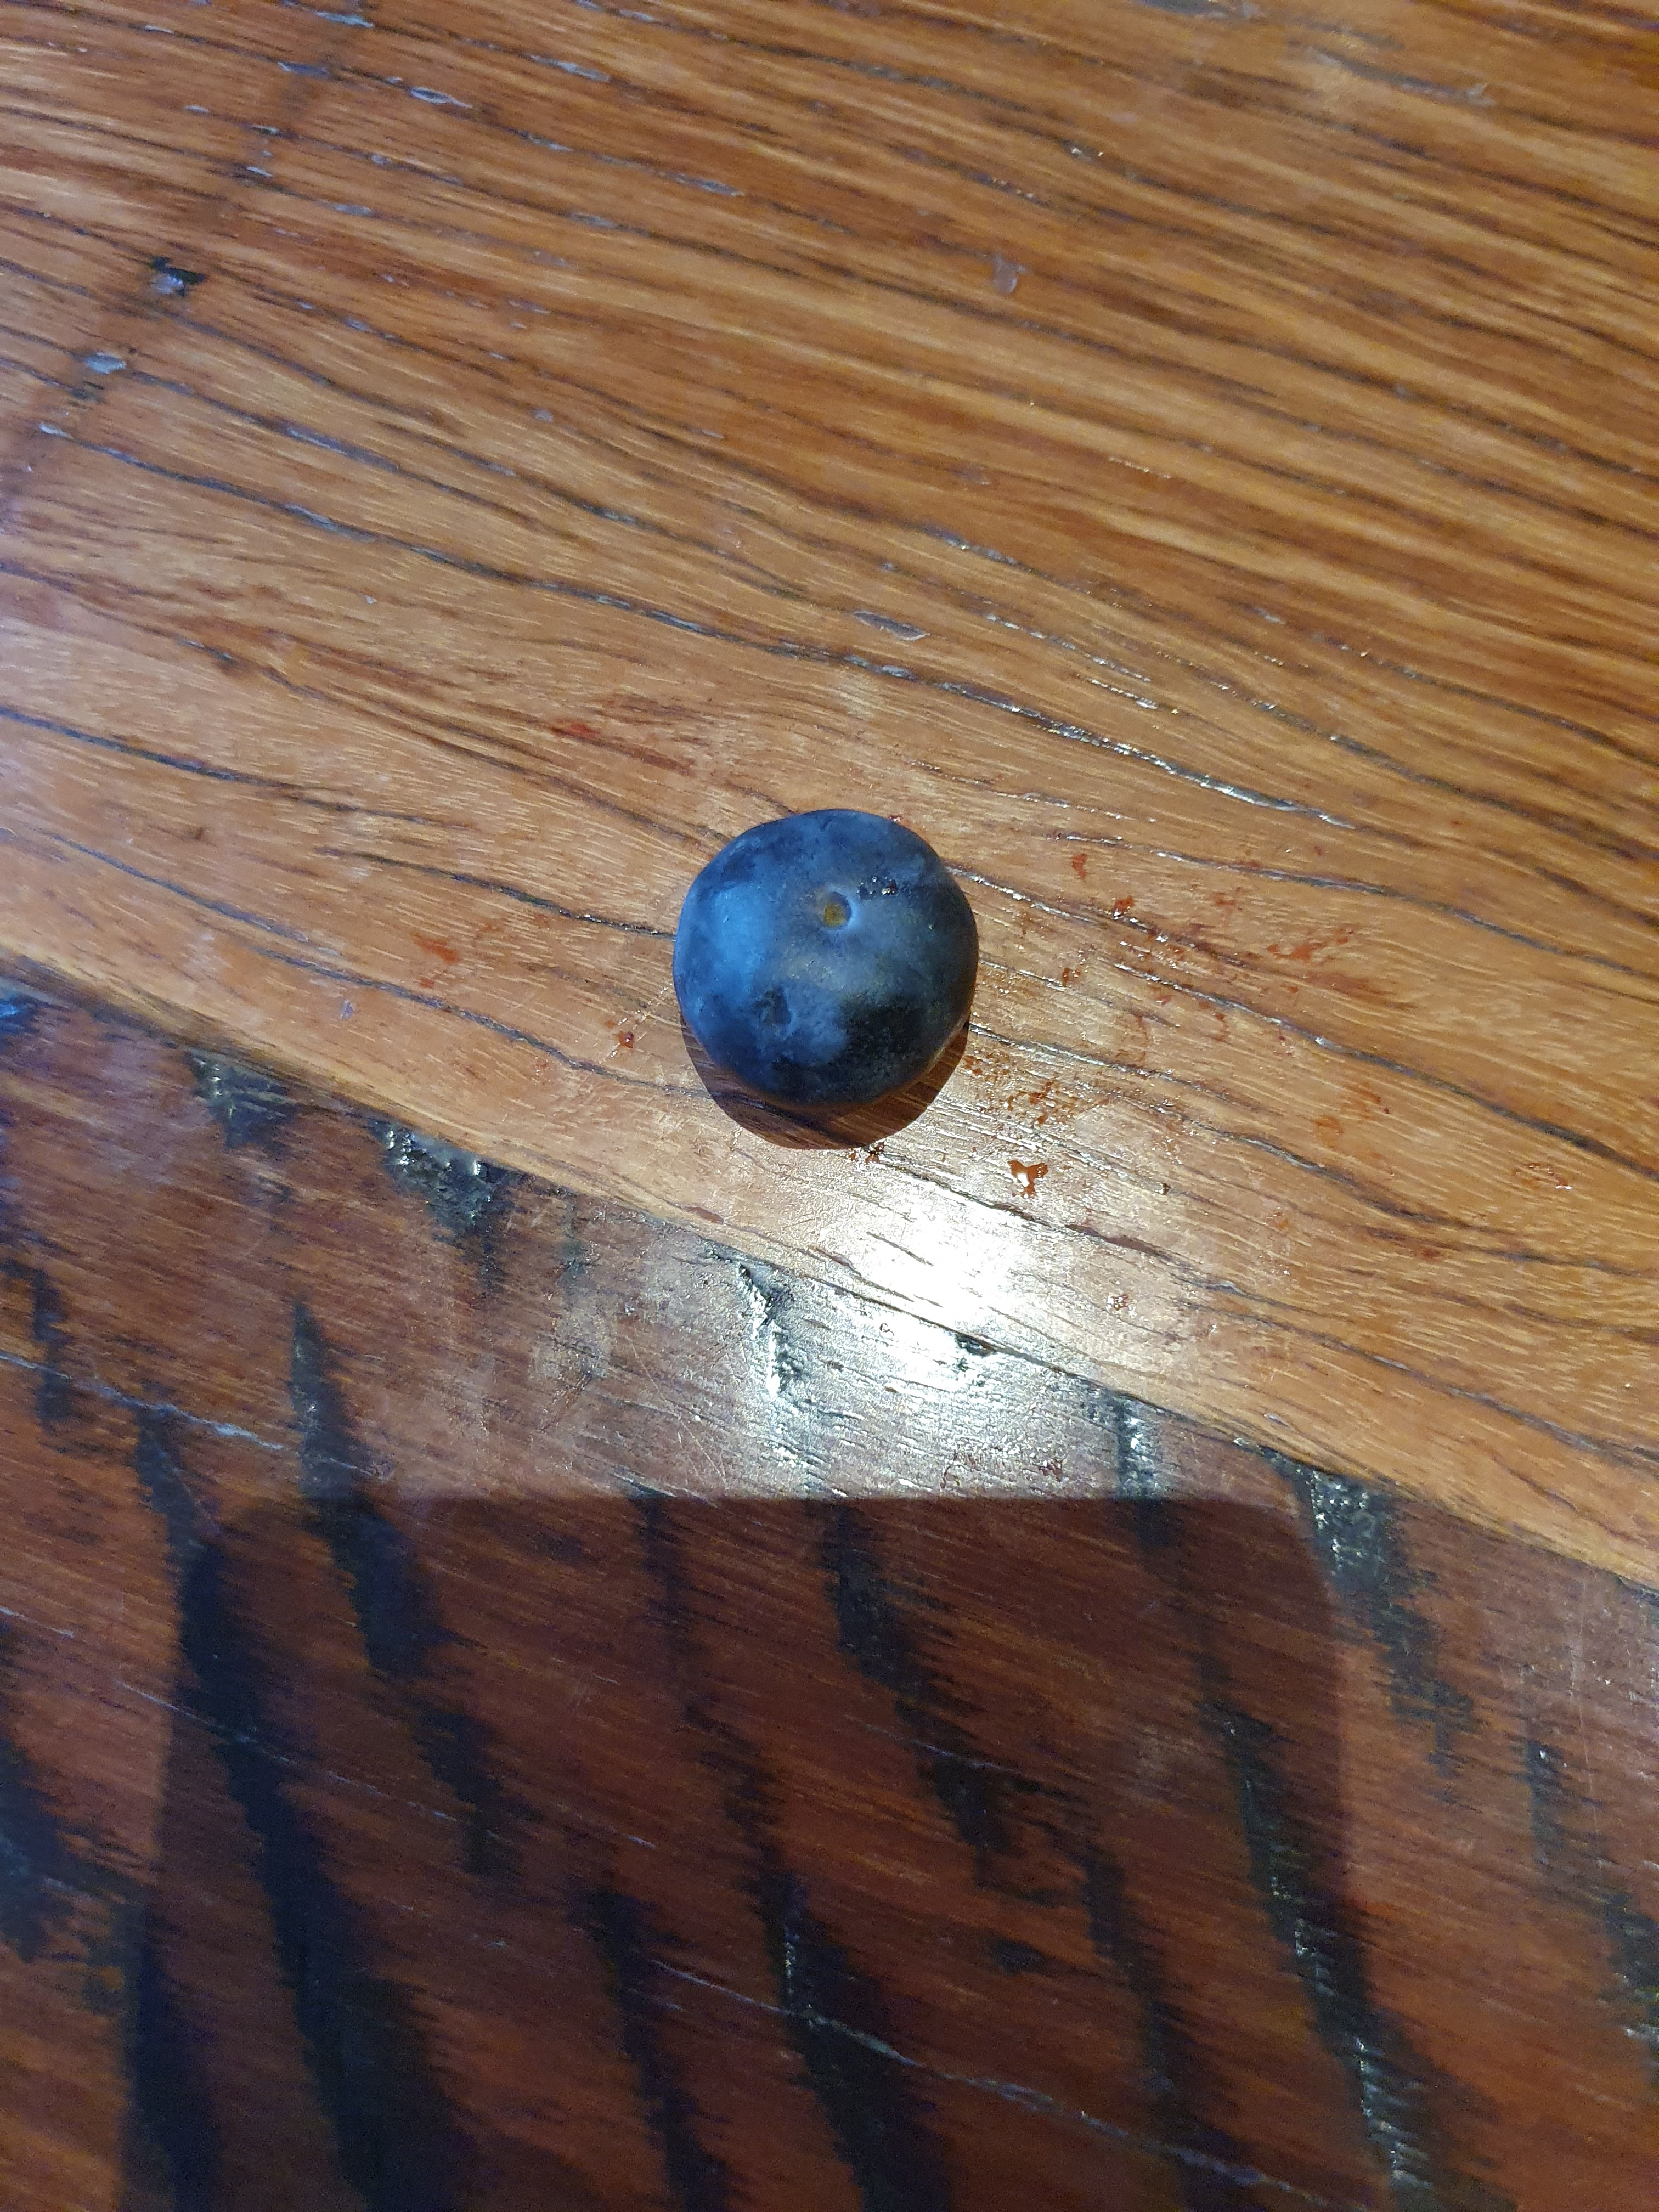blueberry: (633, 787, 985, 1146)
